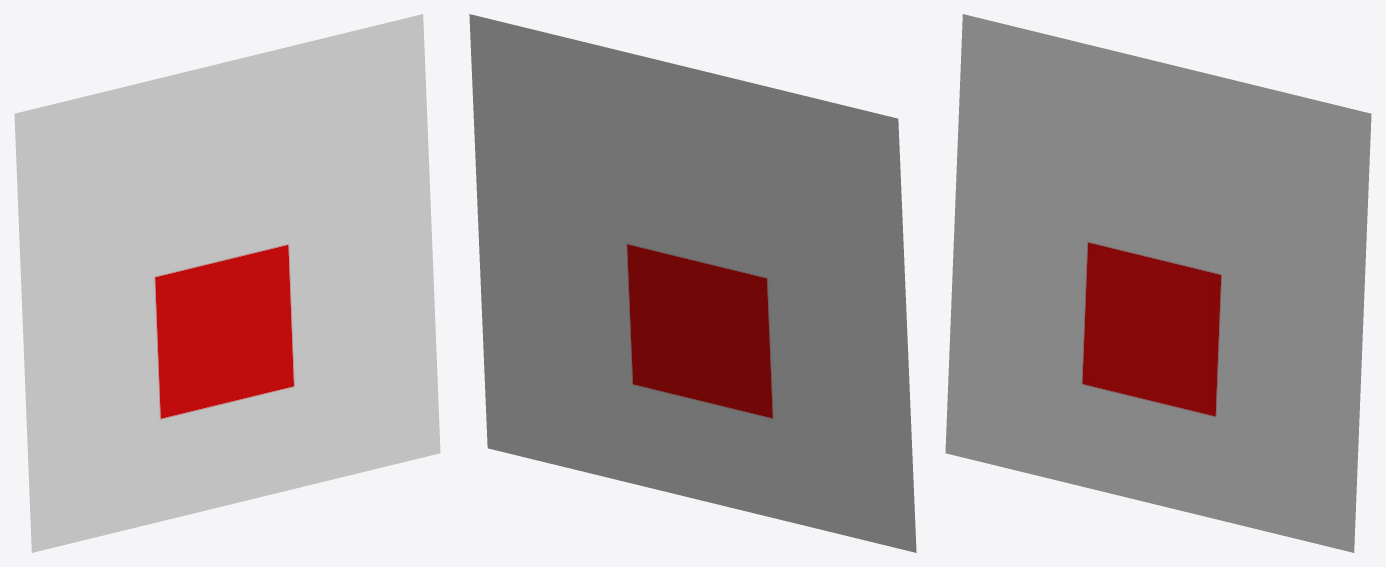
3 renders of one model, left to right at view 1: azimuth 30°, elevation 25°; view 2: azimuth 150°, elevation 25°; view 3: azimuth 330°, elevation 25°, orthographic. The views are drawn at different scales.
Visible parts, largest first — view 1: Grid; view 2: Grid; view 3: Grid.
Boxes of the visible parts, x1,y1,x2,y2 form: Grid: (14,14,440,552); Grid: (469,14,916,552); Grid: (945,14,1371,552).
Size of the model in its own units: 2 by 1.99 by 0.1471.
Materials: 1 (1 with a texture image).
